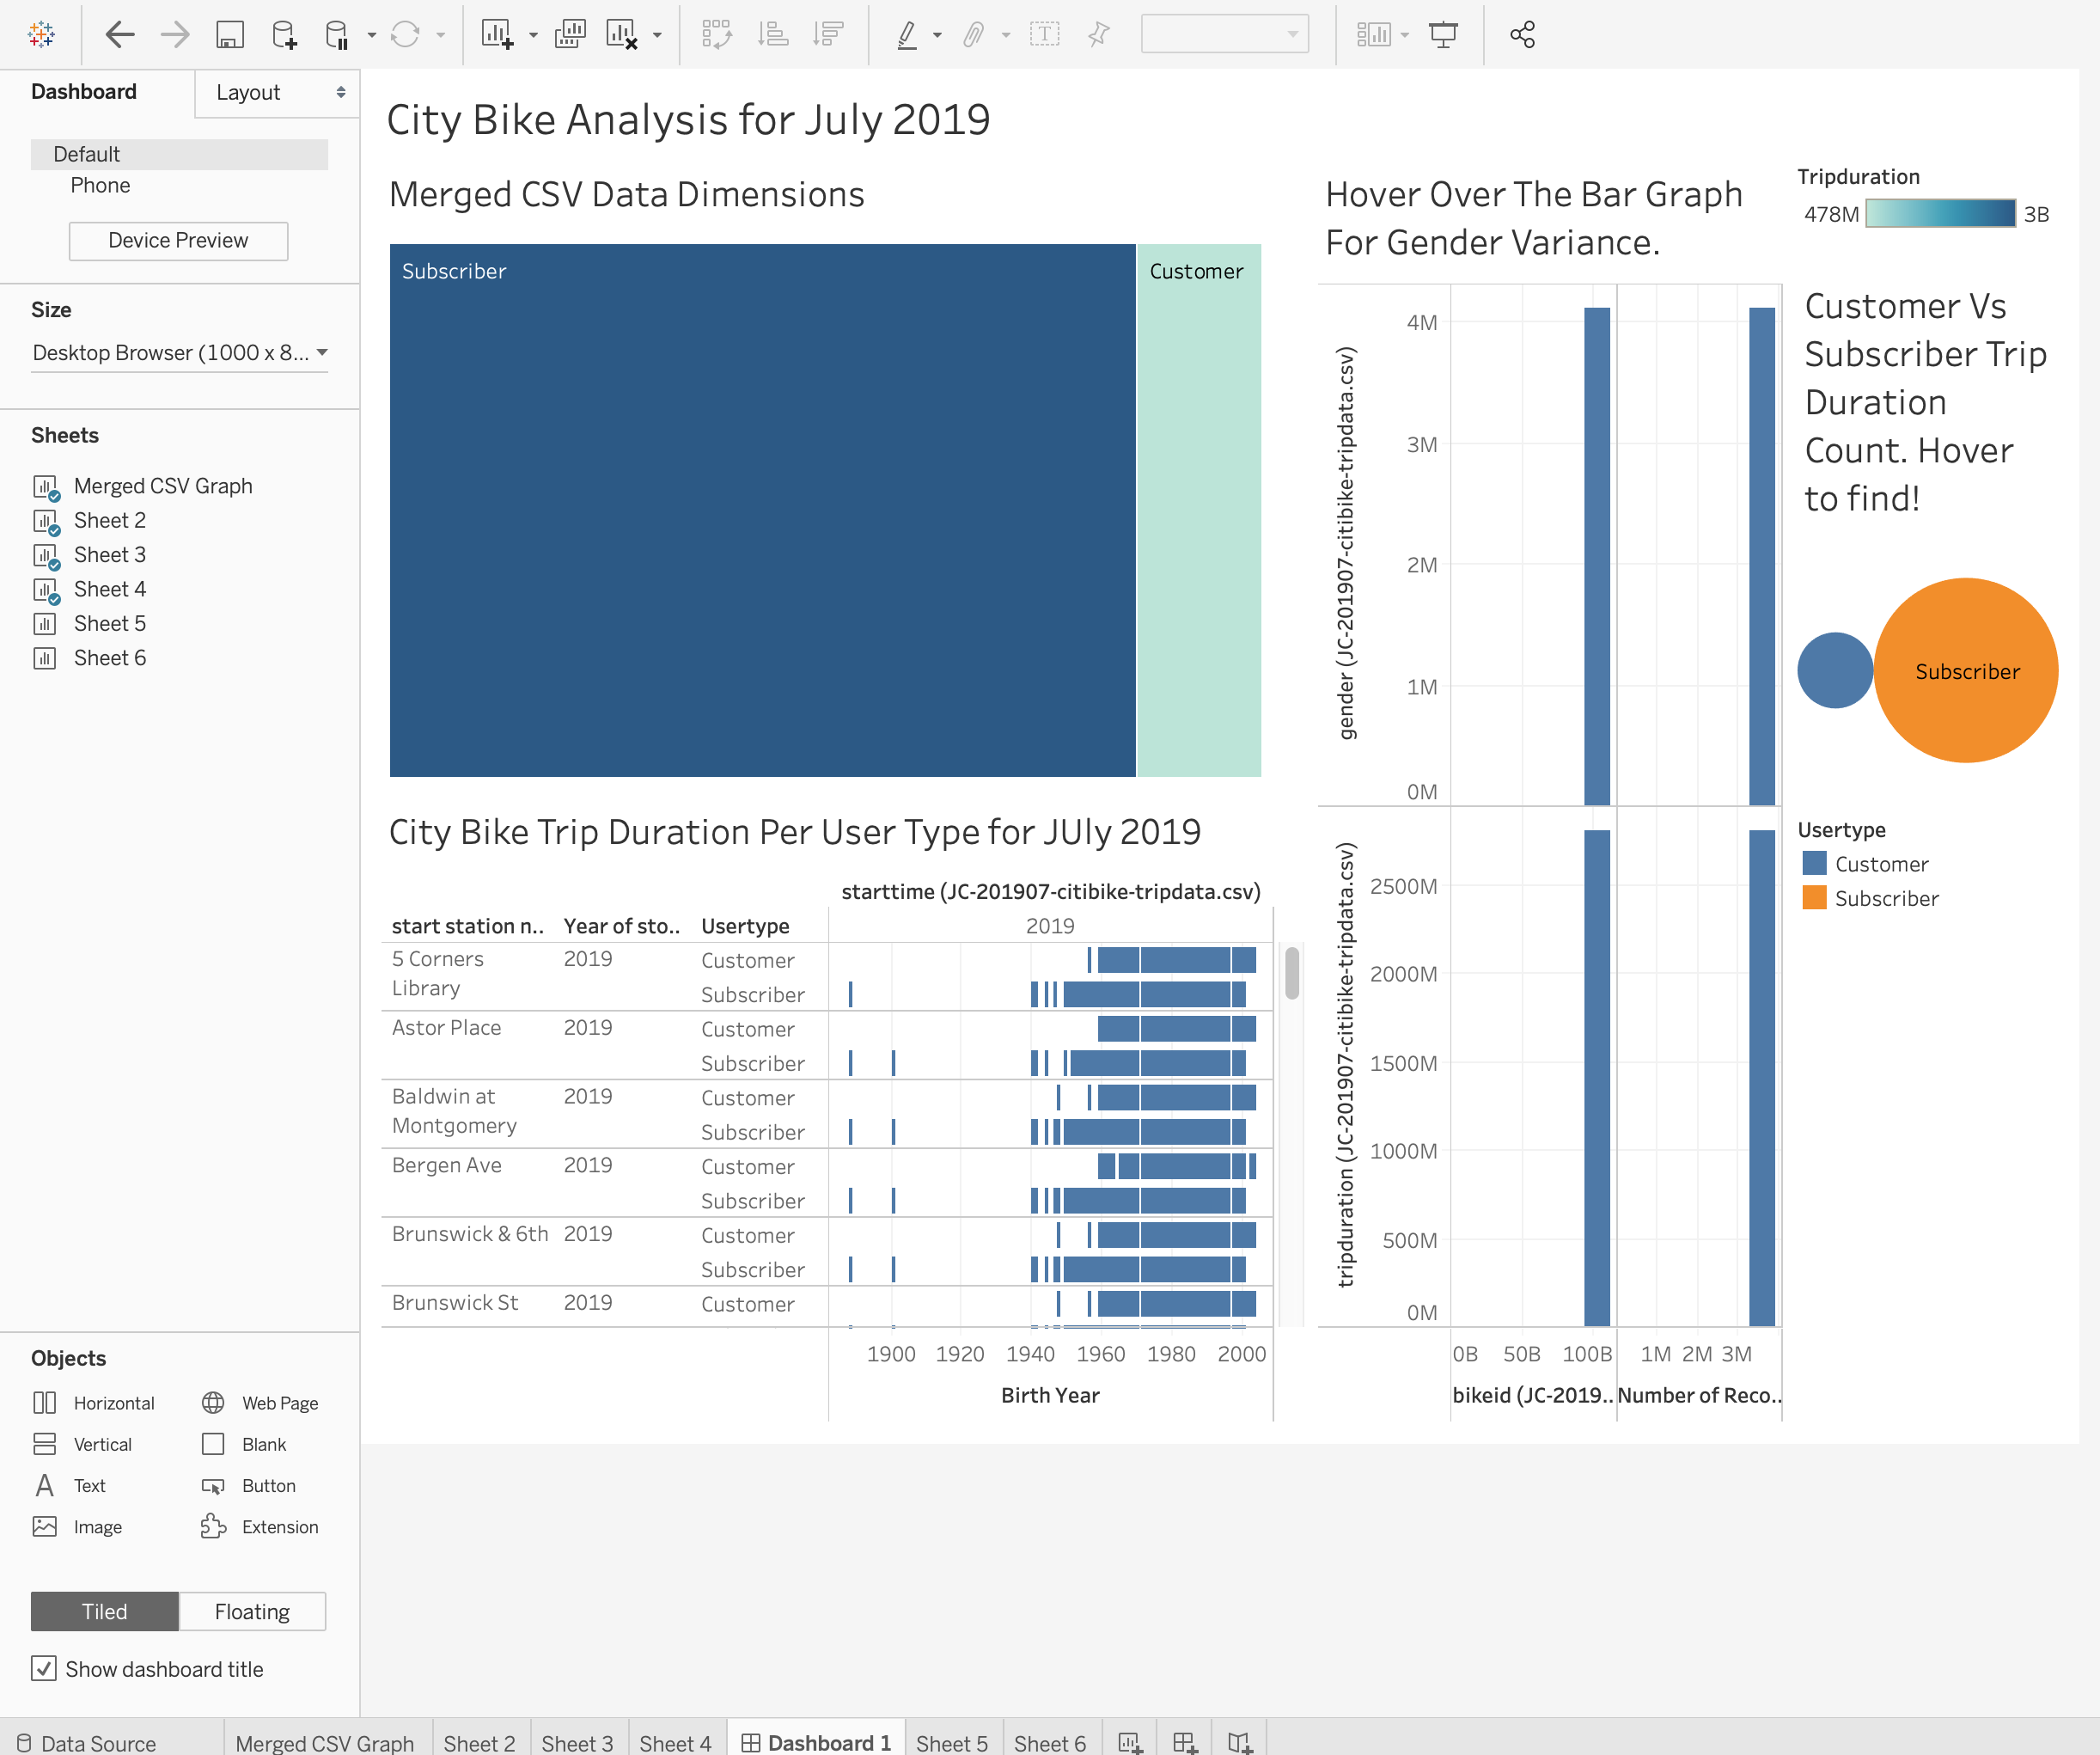

The dashboard page shown, as its layout file describes it:
{"tool":"tableau","page":{"name":"Dashboard 1","canvas":[1000,800],"ordinal":0},"visuals":[{"type":"title","box":[8,8,984,42]},{"type":"worksheet","title":"Merged CSV Graph","mark":"Automatic","box":[8,50,545,371]},{"type":"worksheet","title":"Sheet 3","mark":"Bar","rows":["gender (JC-201907-citibike-tripdata.csv)","tripduration (JC-201907-citibike-tripdata.csv)"],"cols":["bikeid (JC-201907-citibike-tripdata.csv)","Number of Records"],"box":[553,50,279,742]},{"type":"legend","title":"Merged CSV Graph","param":"[federated.0dsxbve0282qle19us6uj1qlk3bj].[sum:tripduration:qk]","box":[832,50,160,65]},{"type":"worksheet","title":"Sheet 4","mark":"Circle","box":[832,115,160,315]},{"type":"worksheet","title":"Sheet 2","mark":"Automatic","rows":["start station name (JC-201907-citibike-tripdata.csv)","stoptime (JC-201907-citibike-tripdata.csv)","usertype"],"cols":["starttime (JC-201907-citibike-tripdata.csv)","birth year"],"box":[8,421,545,371]},{"type":"legend","title":"Sheet 4","param":"[federated.0dsxbve0282qle19us6uj1qlk3bj].[none:usertype:nk]","box":[832,430,160,66]}]}

Visuals, with their boxes on the page's 1000x800 design canvas (x1, y1, x2, y2). These are canvas units, not pixel positions in the 2100x1755 screenshot, which may show the page scaled, cropped or inside an application window:
title: box(8, 8, 992, 50)
"Merged CSV Graph" worksheet: box(8, 50, 553, 421)
"Sheet 3" worksheet (Bar marks): box(553, 50, 832, 792)
"Merged CSV Graph" legend: box(832, 50, 992, 115)
"Sheet 4" worksheet (Circle marks): box(832, 115, 992, 430)
"Sheet 2" worksheet: box(8, 421, 553, 792)
"Sheet 4" legend: box(832, 430, 992, 496)
